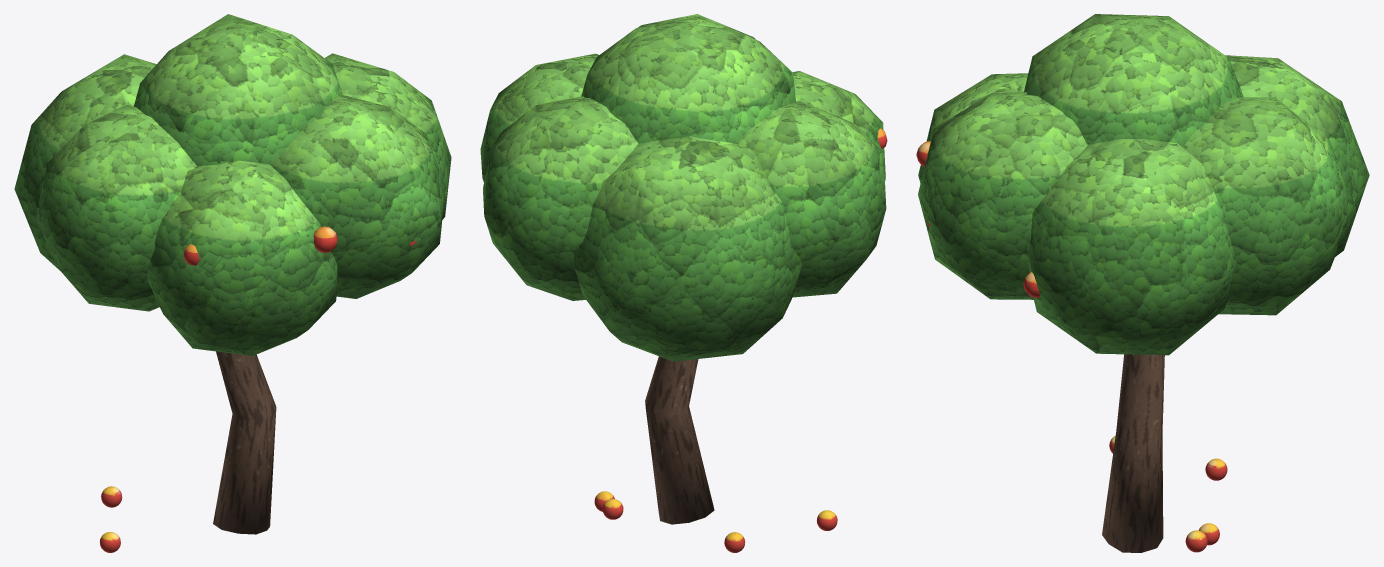
The model's file is apple_tree.glb.
The picture shows the model from 3 angles, left to right: view 1: azimuth 30°, elevation 25°; view 2: azimuth 150°, elevation 25°; view 3: azimuth 270°, elevation 25°; orthographic projection. The views are drawn at different scales.
Visible parts, largest first — view 1: Crown_leaf, AppleTree, Apples; view 2: Crown_leaf, AppleTree; view 3: Crown_leaf, AppleTree.
Part boxes in pixels (<box>): Crown_leaf: <box>14,14,451,355</box>; AppleTree: <box>100,351,276,552</box>; Apples: <box>183,226,416,265</box>; Crown_leaf: <box>480,14,886,361</box>; AppleTree: <box>594,356,837,552</box>; Crown_leaf: <box>918,14,1369,355</box>; AppleTree: <box>1102,354,1227,552</box>.
Bounding box in the file's own units: 3.33 × 4.14 × 3.28.
Materials: 1 (1 with a texture image).
